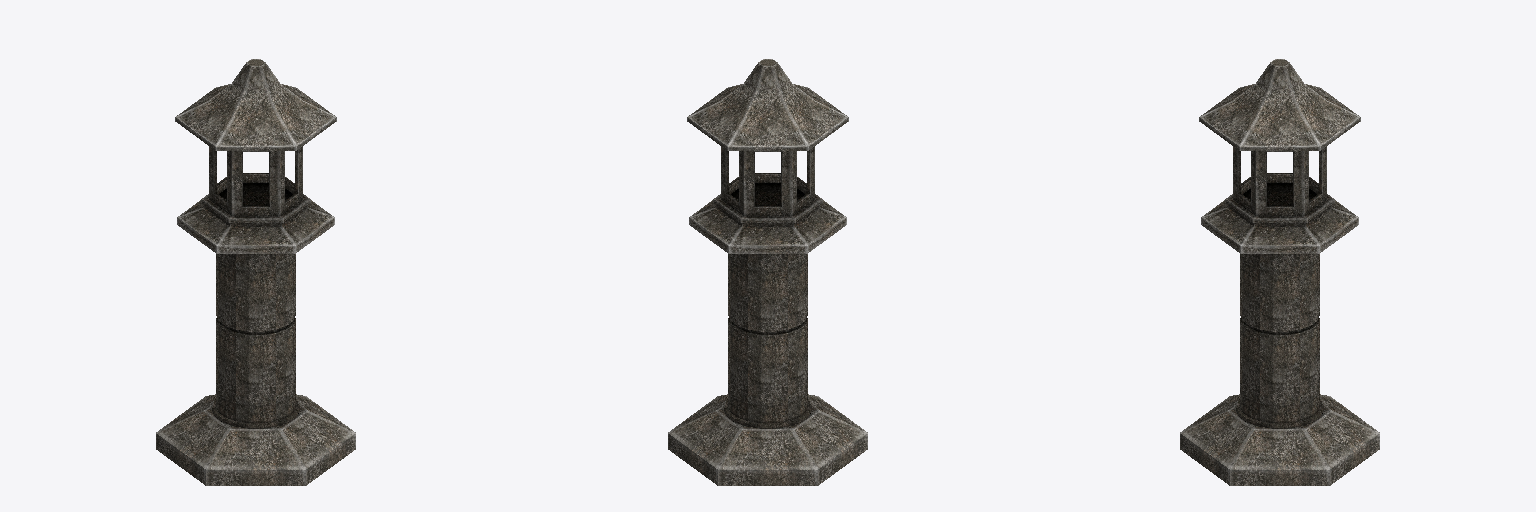
The picture shows the model from 3 angles: view 1: azimuth 30°, elevation 25°; view 2: azimuth 150°, elevation 25°; view 3: azimuth 270°, elevation 25°; orthographic projection.
Visible parts, largest first — view 1: Object_lantern_1024_c.jpg; view 2: Object_lantern_1024_c.jpg; view 3: Object_lantern_1024_c.jpg.
Boxes of the visible parts, box(x1,y1,x2,y2) form: Object_lantern_1024_c.jpg: box(156, 59, 355, 485); Object_lantern_1024_c.jpg: box(668, 59, 867, 485); Object_lantern_1024_c.jpg: box(1180, 59, 1379, 485).
Size of the model in its own units: 1.02 by 2.5 by 1.18.
2 materials, 1 textured.